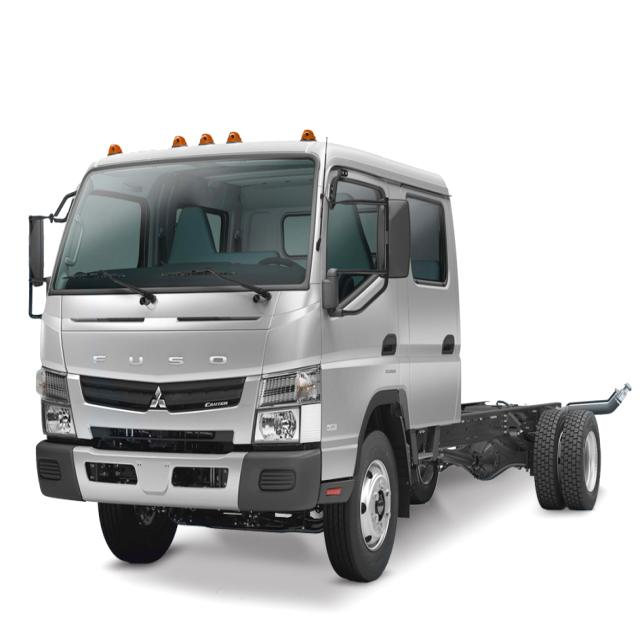truck: (23, 132, 639, 580)
